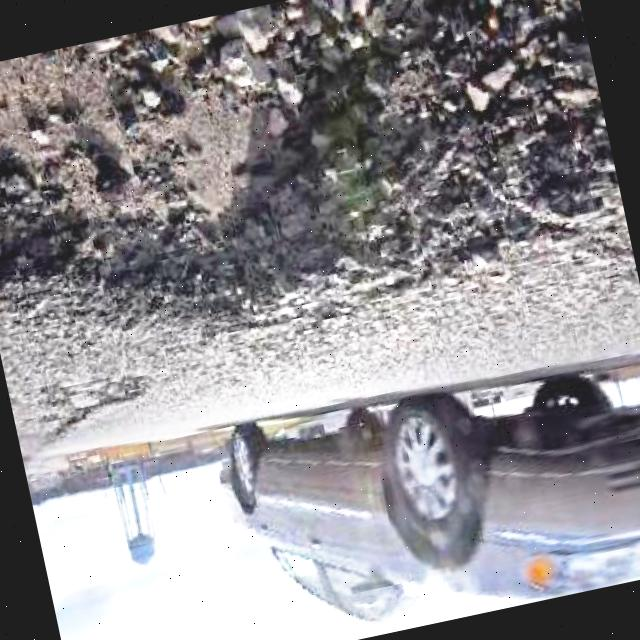pothole: (0, 0, 634, 391), (32, 363, 163, 448)
